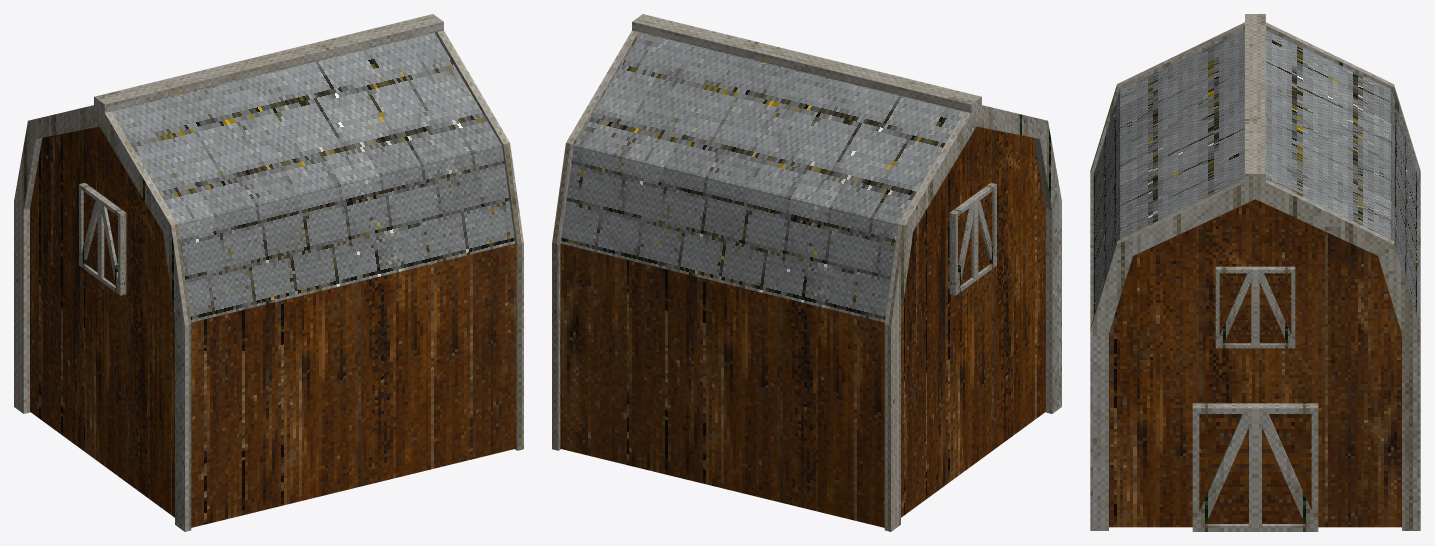
File: BarnExterior.glb
The picture shows the model from 3 angles, left to right: view 1: azimuth 30°, elevation 25°; view 2: azimuth 150°, elevation 25°; view 3: azimuth 270°, elevation 25°; orthographic projection. The views are drawn at different scales.
Parts seen in each view (by area): view 1: Barn Exterior; view 2: Barn Exterior; view 3: Barn Exterior.
Boxes of the visible parts, x1,y1,x2,y2 form: Barn Exterior: (14, 14, 523, 531); Barn Exterior: (552, 14, 1061, 531); Barn Exterior: (1090, 14, 1420, 531).
Bounding box in the file's own units: 10.64 × 10.93 × 9.17.
3 materials, 3 textured.
